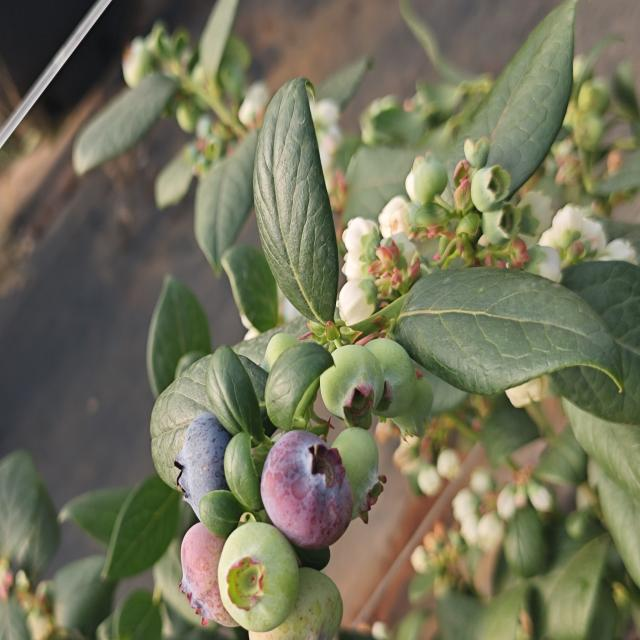ripe: (262, 433, 352, 542), (168, 410, 252, 515)
